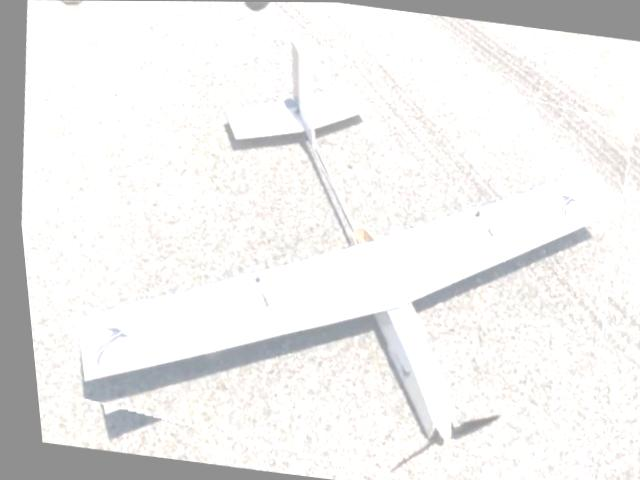insansiz-hava-araci: (36, 7, 640, 480)
